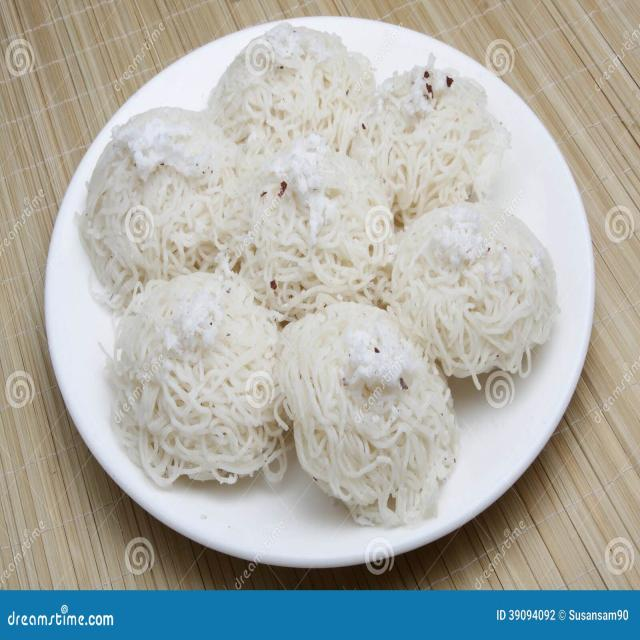IDIYAPPAM: (76, 26, 562, 529)
